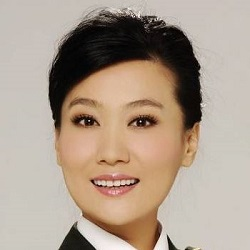unmask: (56, 56, 189, 229)
